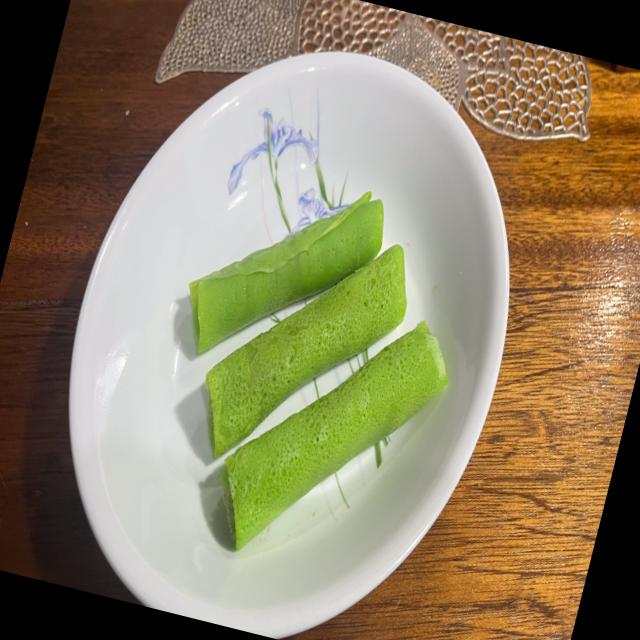Kuih-Ketayap: (221, 321, 447, 549), (205, 244, 406, 457), (189, 192, 383, 352)
